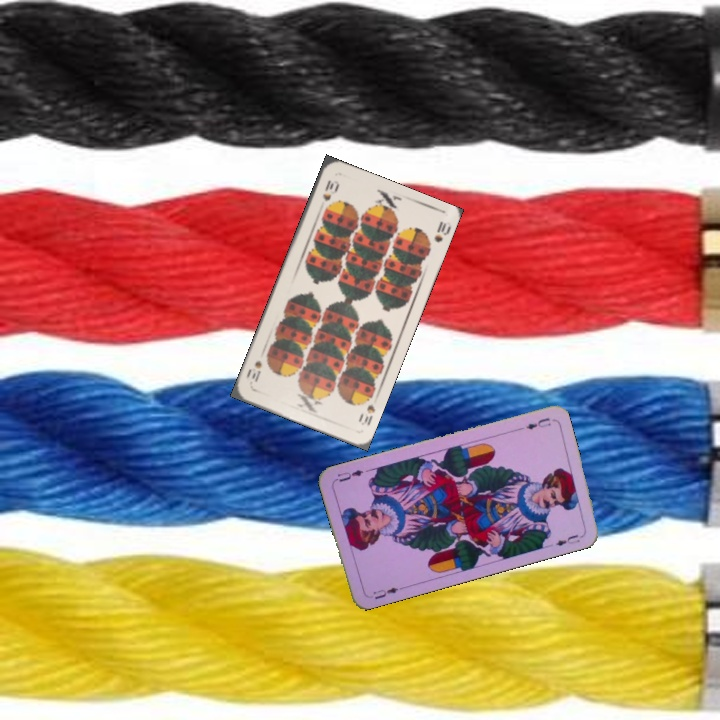EU: (369, 583, 405, 602), (522, 413, 554, 432)
S10: (354, 400, 378, 428), (319, 176, 336, 204)
